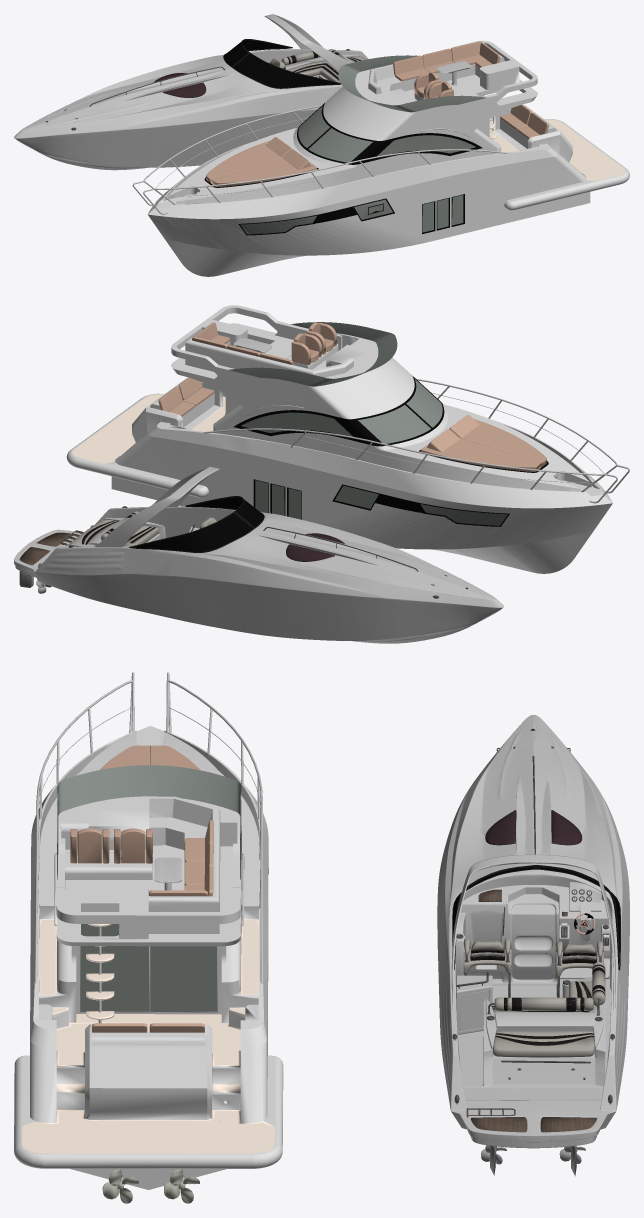
Rendered from jetski.glb.
The picture shows the model from 3 angles, top to bottom: view 1: azimuth 30°, elevation 25°; view 2: azimuth 150°, elevation 25°; view 3: azimuth 270°, elevation 25°; orthographic projection. The views are drawn at different scales.
Parts seen in each view (by area): view 1: object 1, object 2; view 2: object 1, object 2; view 3: object 1, object 2, BladeL_001, BladeL_002.
Boxes of the visible parts, box(x1,y1,x2,y2) form: object 1: box(132, 40, 629, 276); object 2: box(14, 14, 368, 170); object 1: box(66, 305, 629, 573); object 2: box(14, 466, 503, 643); object 1: box(14, 672, 283, 1189); object 2: box(437, 714, 629, 1176); BladeL_001: box(102, 1168, 138, 1203); BladeL_002: box(164, 1169, 199, 1203).
Bounding box in the file's own units: 15.16 × 4.87 × 10.38.
15 materials, 1 textured.
